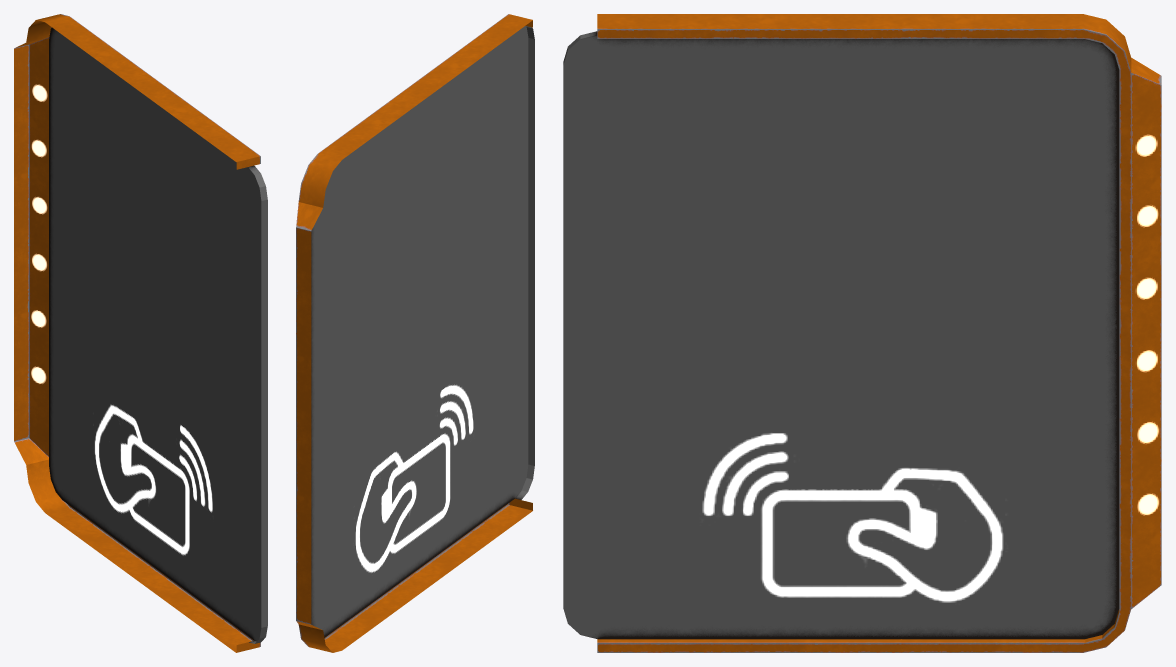
File: 過完Blender的門禁.fbx
3 renders of one model, left to right at view 1: azimuth 30°, elevation 25°; view 2: azimuth 150°, elevation 25°; view 3: azimuth 270°, elevation 25°, orthographic. The views are drawn at different scales.
Parts seen in each view (by area): view 1: Gate_Access_machine; view 2: Gate_Access_machine; view 3: Gate_Access_machine.
Part boxes in pixels (box(x1,y1,x2,y2)): Gate_Access_machine: box(14, 14, 267, 652); Gate_Access_machine: box(296, 14, 534, 652); Gate_Access_machine: box(563, 14, 1161, 652).
Size of the model in its own units: 0.1615 by 3.07 by 2.67.
1 material, 1 textured.
